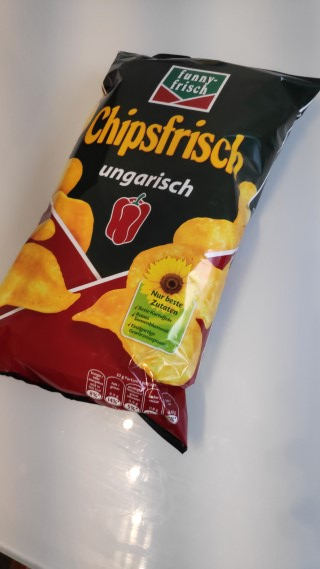chipsfrisch: (1, 49, 319, 457)
